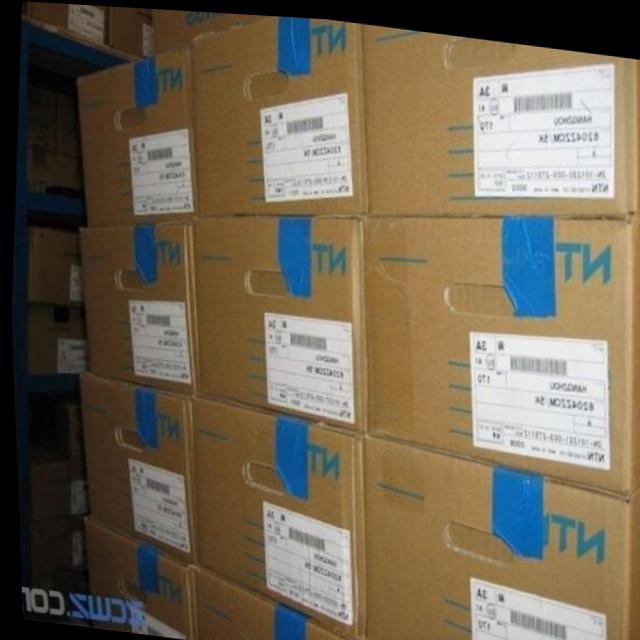box: (361, 209, 640, 488), (360, 428, 640, 640), (358, 19, 640, 210), (188, 389, 361, 637), (191, 213, 362, 426), (190, 13, 365, 216), (73, 42, 195, 225), (77, 373, 193, 563), (75, 218, 195, 391), (186, 562, 358, 640), (79, 515, 186, 638), (24, 432, 86, 520), (153, 7, 272, 49), (26, 512, 85, 595), (23, 305, 86, 373), (26, 226, 80, 305), (24, 386, 79, 455), (31, 2, 105, 44), (24, 149, 83, 200), (105, 5, 159, 53), (26, 87, 58, 152), (51, 94, 77, 157), (27, 208, 83, 232), (21, 1, 32, 16)
